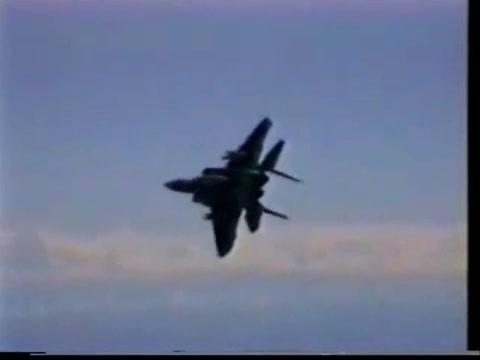aeroplane: (163, 117, 304, 260)
